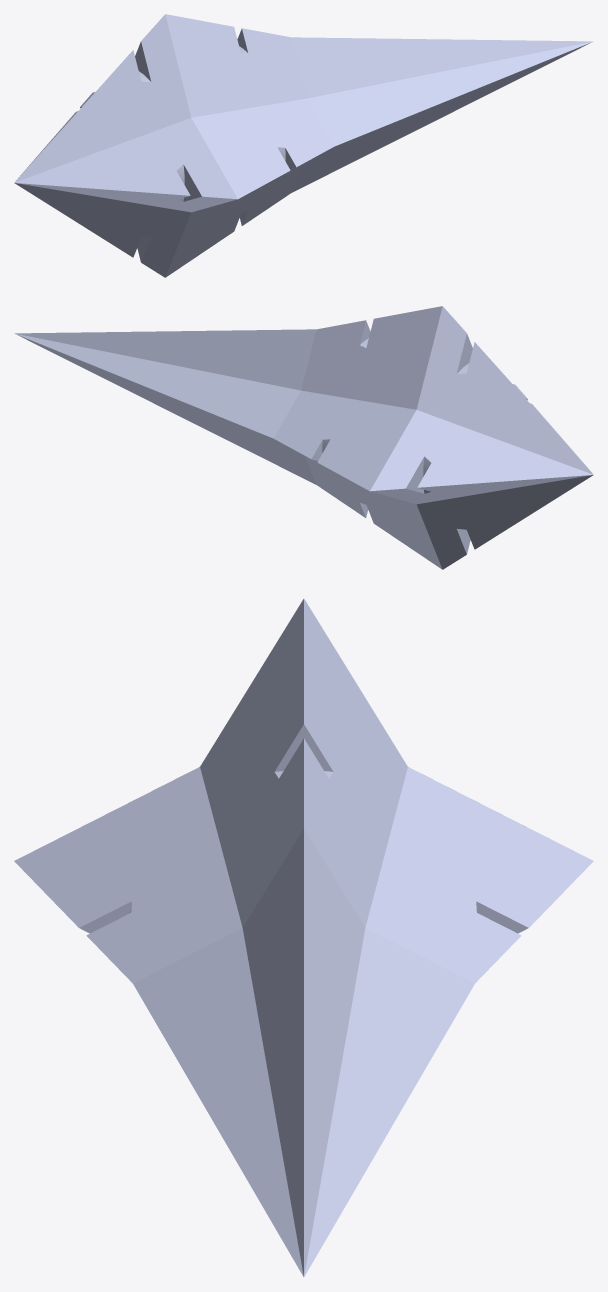
Rendered from Funnel_Melee.FBX.
3 renders of one model, top to bottom at view 1: azimuth 30°, elevation 25°; view 2: azimuth 150°, elevation 25°; view 3: azimuth 270°, elevation 25°, orthographic. The views are drawn at different scales.
Visible parts, largest first — view 1: LPattern1; view 2: LPattern1; view 3: LPattern1.
Part boxes in pixels (x1,y1,x2,y2): LPattern1: [14, 14, 593, 277]; LPattern1: [14, 306, 593, 569]; LPattern1: [14, 599, 593, 1276].
Size of the model in its own units: 23 by 10 by 10.
